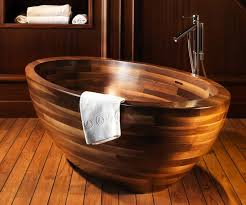bathub: (21, 51, 231, 201)
